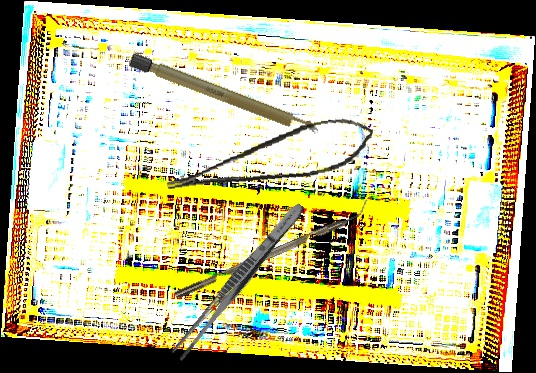Chopper: (169, 198, 375, 300)
Dressing Forceps: (169, 198, 309, 364)
Micro Scissor: (161, 111, 378, 198)
Scalpel Handle: (128, 52, 322, 139)
